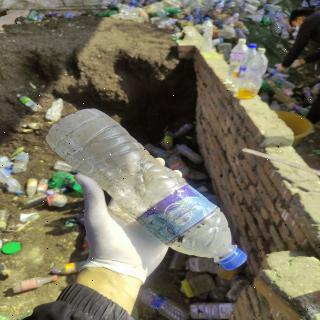Plastic-bottle: (42, 106, 257, 277)
